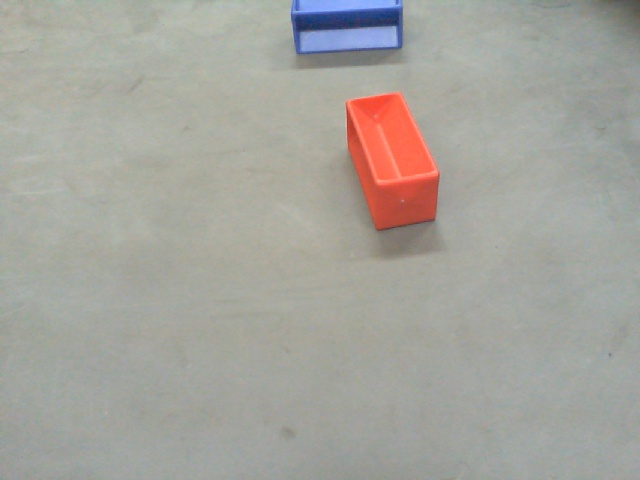BlueSample: (290, 1, 403, 55)
RedSample: (341, 94, 444, 231)
